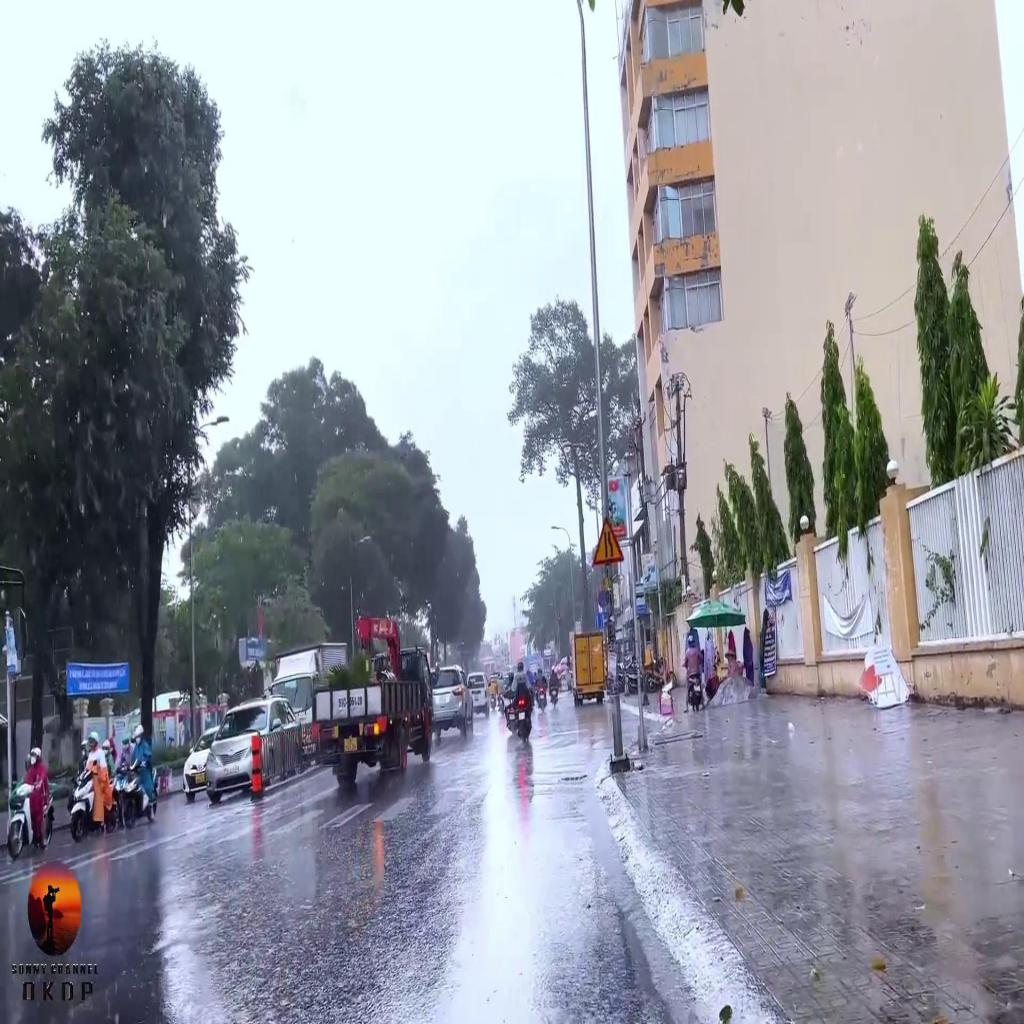khac: (590, 510, 625, 565)
